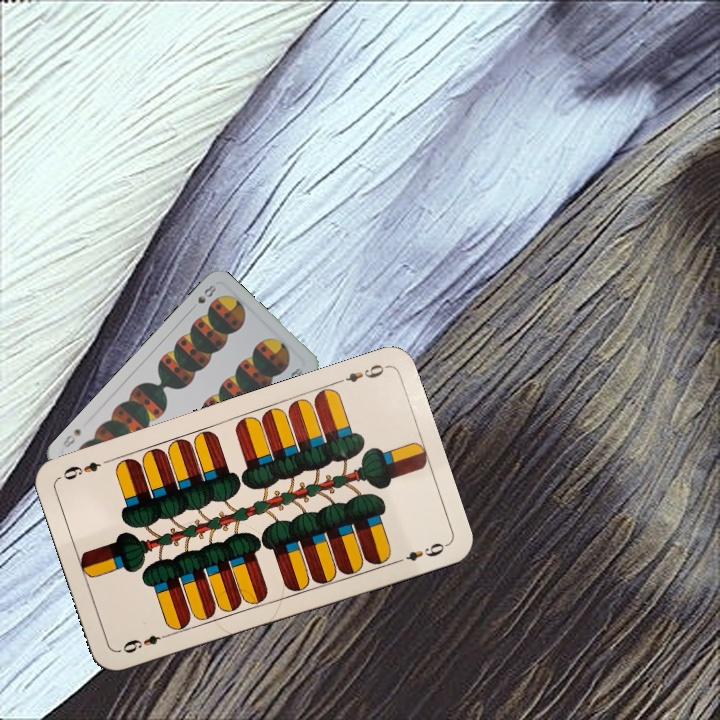E9: (115, 629, 173, 656), (332, 360, 389, 387)
S8: (186, 281, 219, 314)
